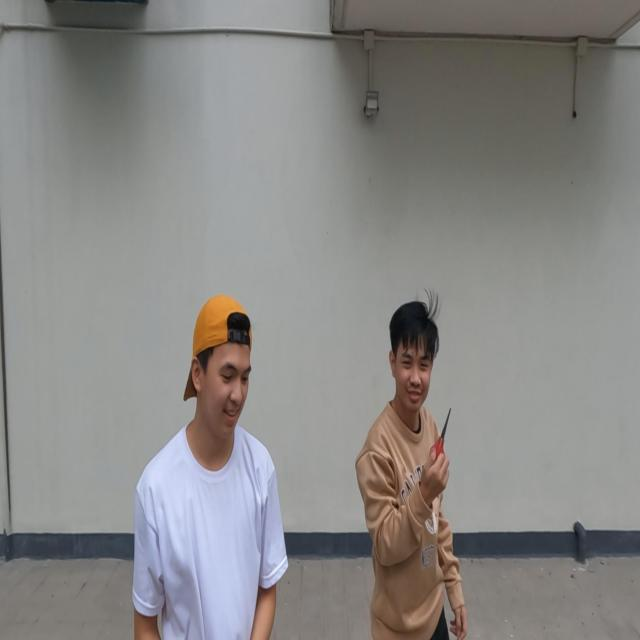scissor: (428, 406, 452, 468)
